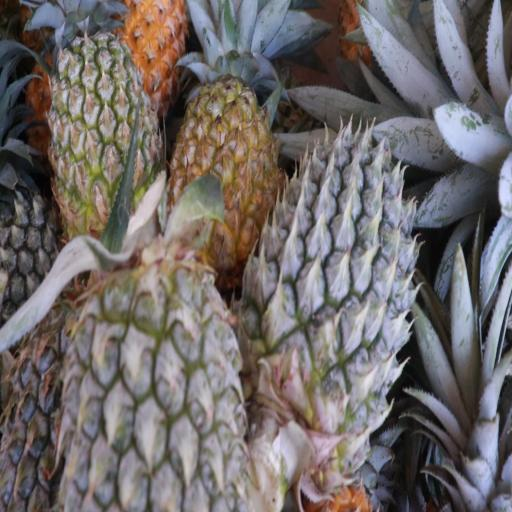------------------------------: (48, 26, 158, 238)
Pineapple - v8 v1: (170, 82, 278, 260)
